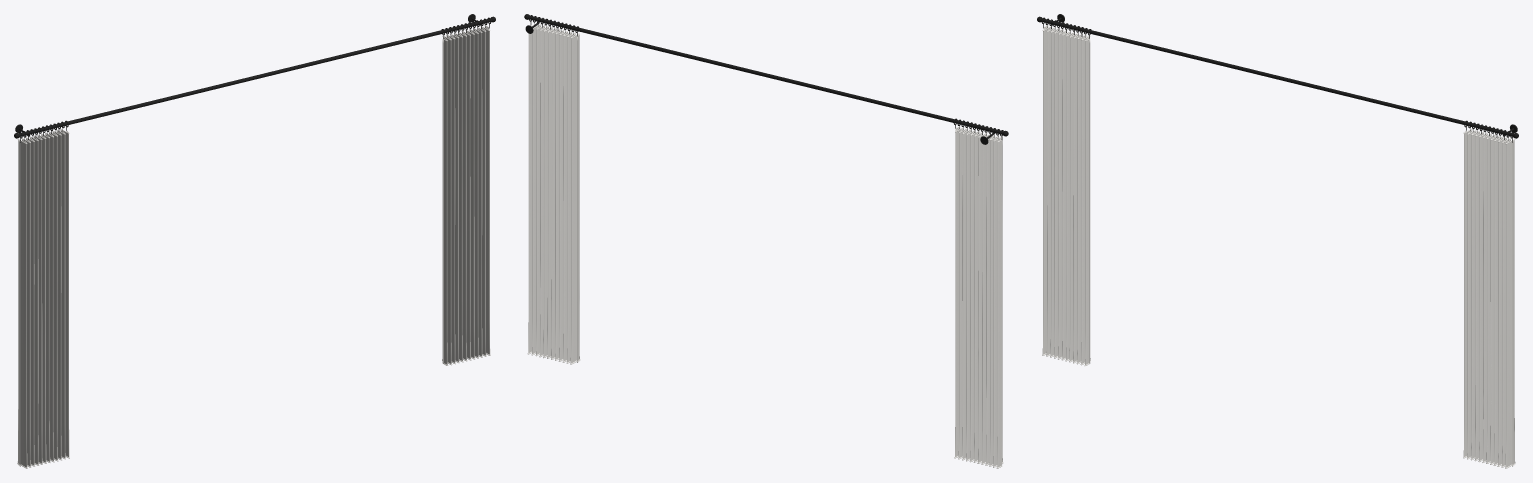
Rendered from cortina_onda_360_c20.glb.
The picture shows the model from 3 angles, left to right: view 1: azimuth 30°, elevation 25°; view 2: azimuth 150°, elevation 25°; view 3: azimuth 330°, elevation 25°; orthographic projection.
Parts seen in each view (by area): view 1: cortina_onda_360_c20; view 2: cortina_onda_360_c20; view 3: cortina_onda_360_c20.
Boxes of the visible parts, x1,y1,x2,y2 form: cortina_onda_360_c20: (14, 14, 495, 468); cortina_onda_360_c20: (524, 14, 1008, 468); cortina_onda_360_c20: (1037, 14, 1518, 468).
Size of the model in its own units: 3.6 by 2.39 by 0.1789.
Materials: 2 (1 with a texture image).
